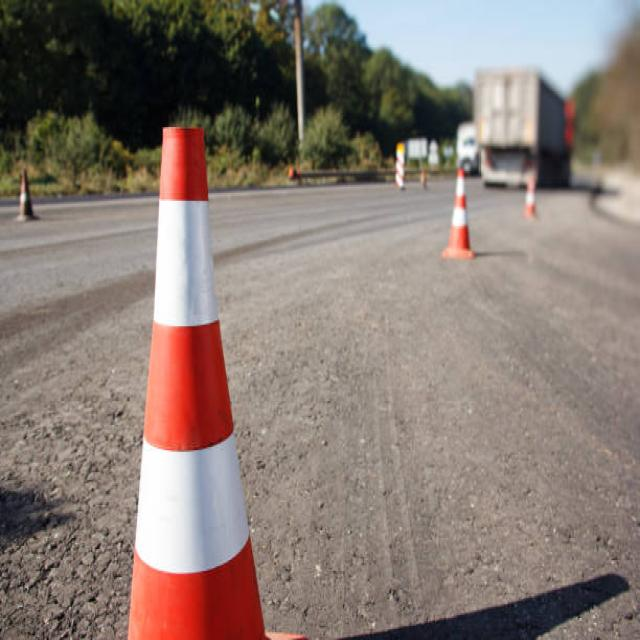Traffic Cone: (102, 111, 332, 640), (431, 154, 490, 282)
